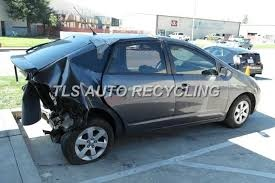Smashed: (14, 53, 84, 145)
